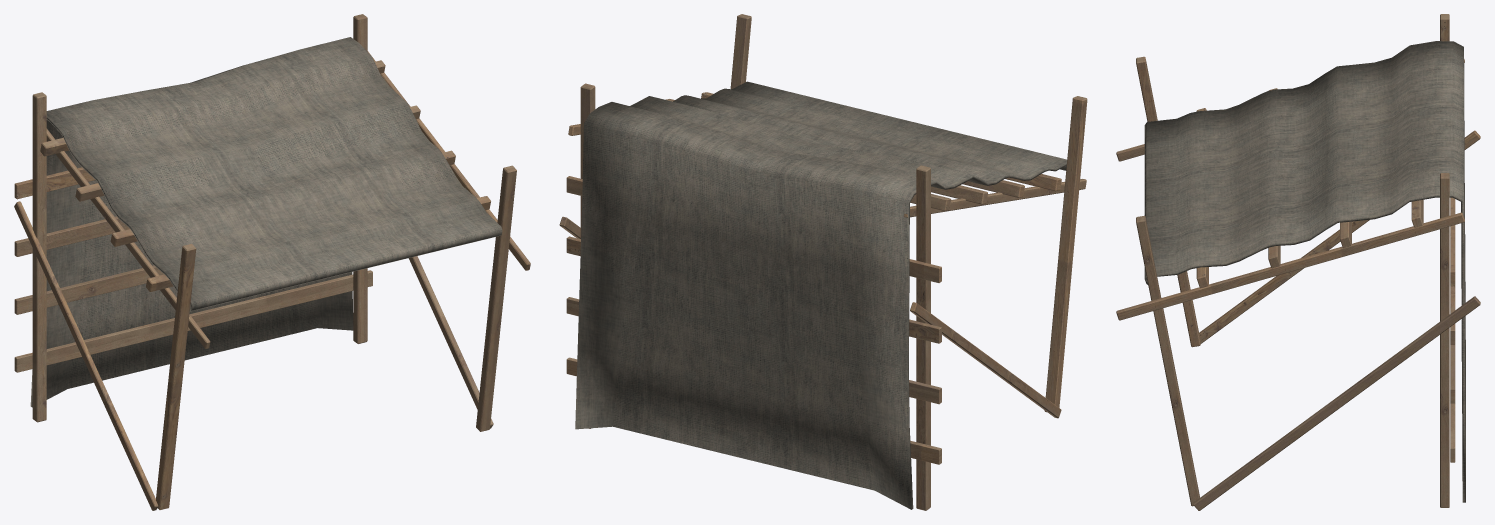
The model's file is RC_Market_Tent_01.gltf.
3 views of the same model, side by side, from view 1: azimuth 30°, elevation 25°; view 2: azimuth 150°, elevation 25°; view 3: azimuth 270°, elevation 25° (orthographic). The views are drawn at different scales.
Visible parts, largest first — view 1: RC_Market_Tent_01(Clone); view 2: RC_Market_Tent_01(Clone); view 3: RC_Market_Tent_01(Clone).
Part boxes in pixels (x1,y1,x2,y2): RC_Market_Tent_01(Clone): [14, 14, 530, 510]; RC_Market_Tent_01(Clone): [559, 14, 1087, 510]; RC_Market_Tent_01(Clone): [1116, 14, 1480, 510].
Size of the model in its own units: 4.78 by 4.17 by 4.16.
2 materials, 2 textured.
